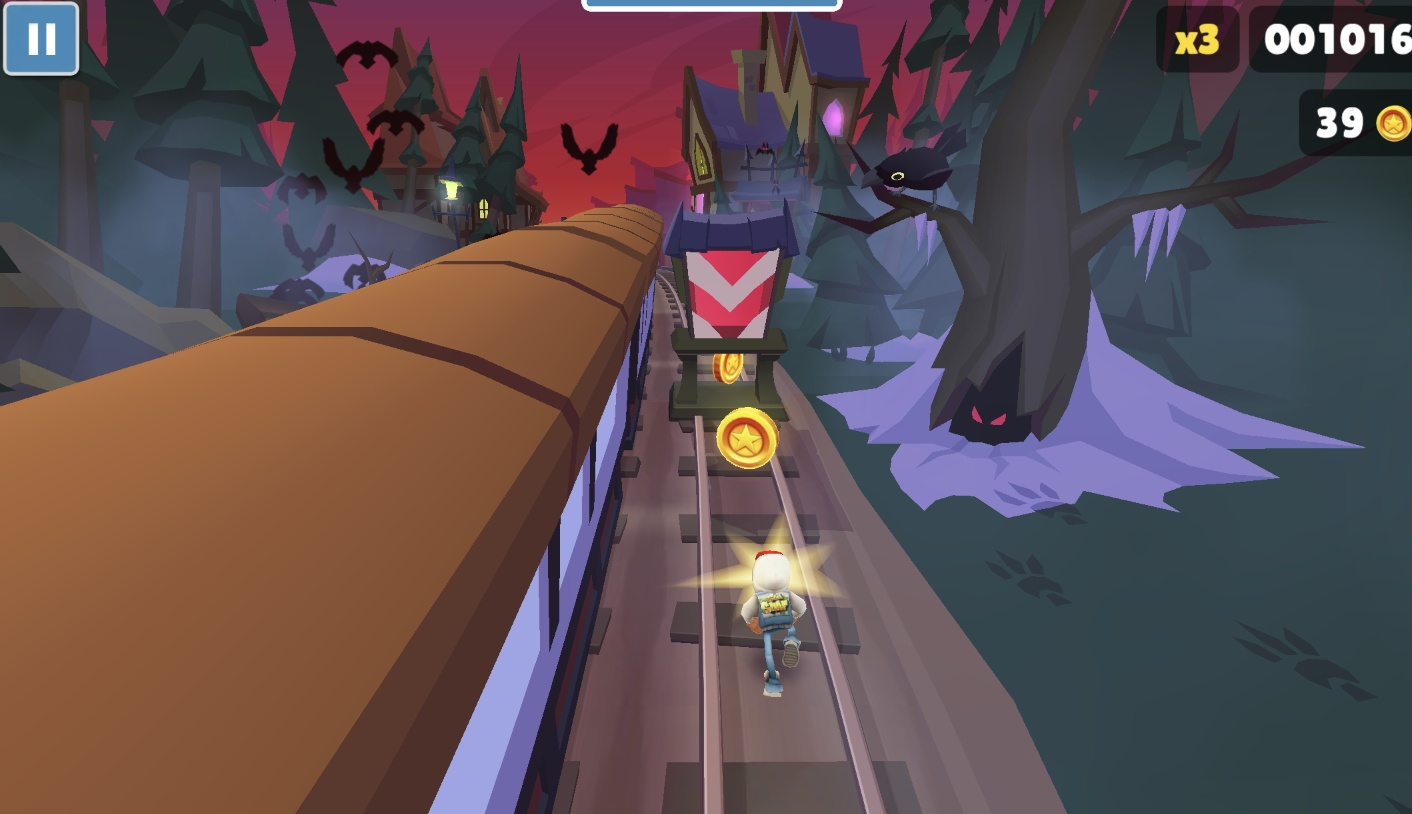overhead_barrier: (660, 206, 804, 432)
train: (0, 204, 664, 814)
